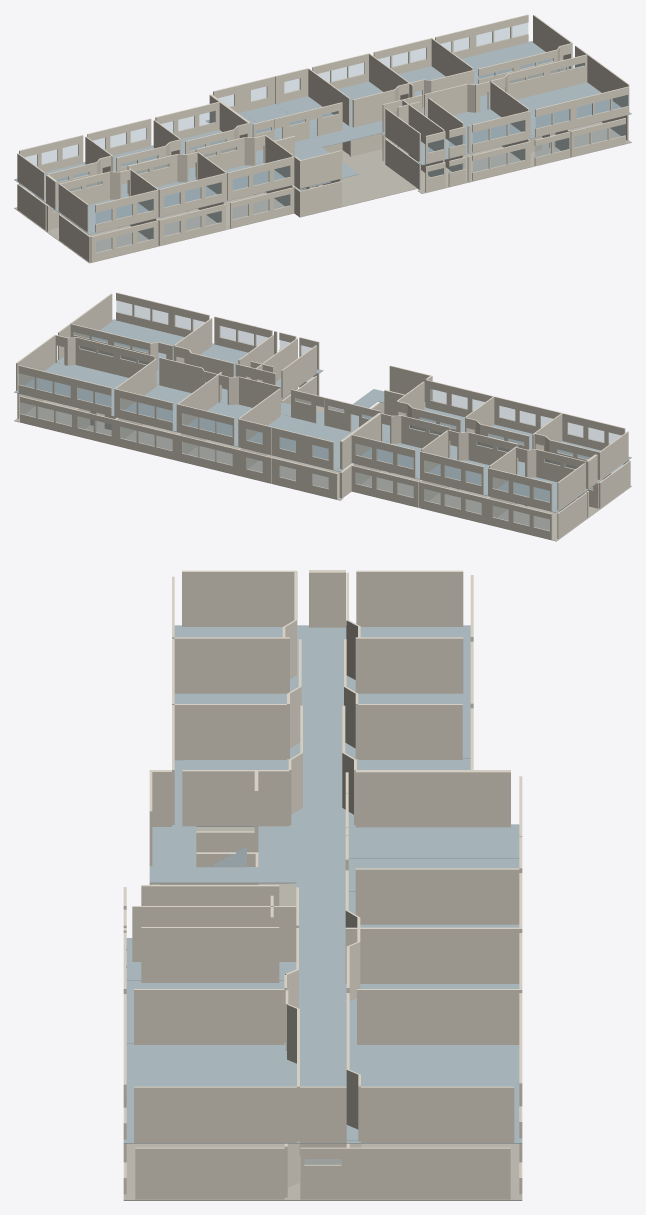
The model's file is building.glb.
3 renders of one model, top to bottom at view 1: azimuth 30°, elevation 25°; view 2: azimuth 150°, elevation 25°; view 3: azimuth 270°, elevation 25°, orthographic. The views are drawn at different scales.
Visible parts, largest first — view 1: ground-room-20-0, upper-room-7-0, upper-room-6-0, upper-wall-band6-27-high, upper-wall-band6-12-high, upper-room-16-0, upper-room-8-0, upper-wall-band6-1-high, upper-floor-display-0, upper-wall-band6-11-high, upper-wall-band6-41-high, ground-floor-display-0 (+60 smaller); view 2: ground-wall-band0-25-low, upper-room-16-0, upper-wall-band6-27-high, upper-wall-band6-12-high, ground-wall-band6-18-high, ground-wall-band0-8-low, upper-room-7-0, upper-room-6-0, upper-floor-display-0, upper-room-15-0, upper-wall-band6-1-high, upper-room-14-0 (+55 smaller); view 3: upper-room-6-0, upper-room-7-0, upper-room-16-0, upper-room-11-0, upper-wall-band6-1-high, upper-wall-band6-27-high, upper-floor-display-0, ground-wall-band0-27-low, upper-wall-band6-12-high, upper-wall-band6-41-high, upper-wall-band0-53-low, upper-wall-band0-40-low (+62 smaller).
Boxes of the visible parts, x1,y1,x2,y2 form: ground-room-20-0: (49, 144, 417, 237); upper-room-7-0: (517, 82, 621, 136); upper-room-6-0: (57, 90, 504, 208); upper-wall-band6-27-high: (312, 53, 473, 106); upper-wall-band6-12-high: (155, 94, 250, 148); upper-room-16-0: (461, 42, 565, 84); upper-room-8-0: (454, 109, 520, 152); upper-wall-band6-1-high: (58, 168, 158, 211); upper-floor-display-0: (14, 41, 631, 234); upper-wall-band6-11-high: (195, 135, 294, 157); upper-wall-band6-41-high: (373, 38, 473, 71); ground-floor-display-0: (14, 140, 631, 263); ground-wall-band0-25-low: (74, 412, 271, 483); upper-room-16-0: (17, 363, 128, 414); upper-wall-band6-27-high: (159, 357, 280, 425); upper-wall-band6-12-high: (340, 413, 450, 457); ground-wall-band6-18-high: (17, 393, 271, 462); ground-wall-band0-8-low: (419, 488, 552, 539); upper-room-7-0: (89, 320, 184, 369); upper-room-6-0: (57, 357, 524, 476); upper-floor-display-0: (14, 319, 631, 512); upper-room-15-0: (124, 385, 191, 430); upper-wall-band6-1-high: (532, 413, 628, 459); upper-room-14-0: (187, 402, 252, 444); upper-room-6-0: (149, 627, 358, 1140); upper-room-7-0: (126, 1045, 296, 1139); upper-room-16-0: (349, 1045, 519, 1138); upper-room-11-0: (348, 827, 519, 858); upper-wall-band6-1-high: (174, 570, 297, 652); upper-wall-band6-27-high: (345, 870, 522, 992); upper-floor-display-0: (123, 625, 522, 1143); ground-wall-band0-27-low: (300, 1183, 510, 1199); upper-wall-band6-12-high: (342, 705, 510, 786); upper-wall-band6-41-high: (357, 933, 522, 1004); upper-wall-band0-53-low: (134, 1126, 296, 1142); upper-wall-band0-40-low: (355, 908, 519, 924).
Size of the model in its own units: 65.32 by 6.65 by 21.25.
